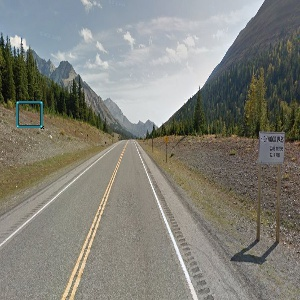square: (14, 99, 46, 130)
